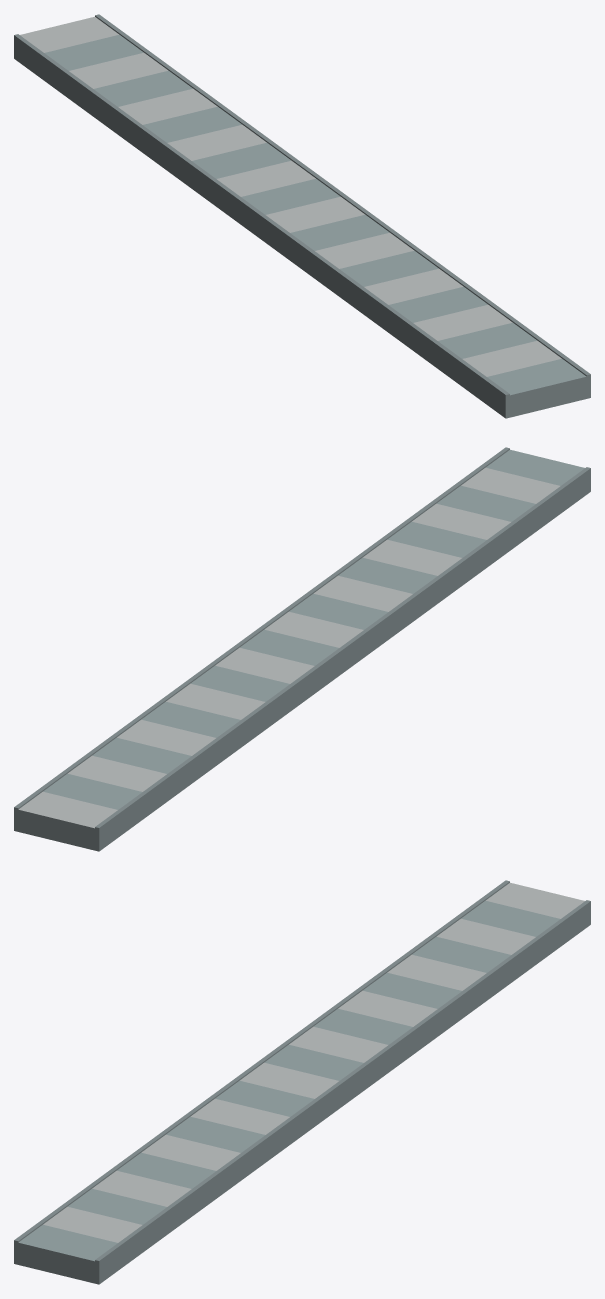
Rendered from road_grey_10.fbx.
3 renders of one model, top to bottom at view 1: azimuth 30°, elevation 25°; view 2: azimuth 150°, elevation 25°; view 3: azimuth 330°, elevation 25°, orthographic.
Parts seen in each view (by area): view 1: road_grey_10; view 2: road_grey_10; view 3: road_grey_10.
Boxes of the visible parts, box(x1,y1,x2,y2) form: road_grey_10: box(14, 14, 590, 418); road_grey_10: box(14, 447, 590, 851); road_grey_10: box(14, 880, 590, 1284).
Size of the model in its own units: 2 by 0.5304 by 20.
